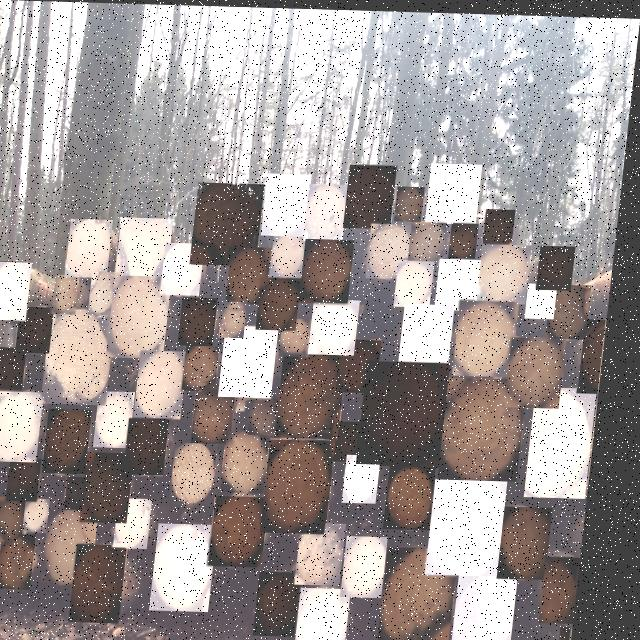wood-log: (371, 360, 454, 463), (452, 376, 534, 477), (537, 384, 601, 494), (442, 478, 516, 573), (396, 546, 468, 640), (53, 309, 119, 404), (277, 438, 342, 531), (199, 182, 265, 264), (288, 353, 352, 436), (168, 523, 226, 610), (118, 275, 175, 357), (463, 298, 522, 373), (468, 573, 528, 640), (86, 544, 137, 621), (516, 335, 572, 405), (224, 495, 278, 564), (231, 325, 283, 396), (513, 503, 563, 576), (58, 510, 107, 583), (96, 452, 143, 522), (2, 392, 49, 462), (145, 351, 194, 417), (125, 217, 178, 278), (408, 302, 460, 364), (308, 237, 357, 300), (350, 163, 399, 226), (433, 161, 483, 221), (485, 242, 535, 300), (398, 464, 444, 527), (55, 409, 100, 472), (310, 521, 355, 583), (310, 587, 362, 640), (269, 173, 314, 234), (271, 570, 314, 633), (234, 430, 278, 490), (182, 442, 225, 503), (356, 534, 398, 595), (73, 219, 117, 277), (318, 298, 364, 353), (553, 553, 590, 619), (203, 382, 243, 442), (310, 182, 351, 239), (235, 245, 274, 303), (374, 222, 416, 275), (136, 418, 176, 473), (0, 262, 36, 320), (347, 338, 387, 390), (265, 276, 305, 328), (555, 282, 594, 335), (443, 257, 484, 307), (169, 242, 208, 293), (106, 391, 141, 447), (12, 534, 46, 589), (589, 316, 613, 389), (401, 258, 439, 304), (187, 297, 223, 344), (129, 498, 163, 547), (0, 347, 33, 396), (355, 453, 389, 500), (414, 220, 450, 263), (26, 307, 59, 353), (544, 243, 579, 286), (277, 231, 310, 275), (4, 497, 36, 542), (193, 345, 225, 389), (18, 459, 50, 501), (96, 272, 128, 313), (339, 419, 371, 459), (489, 206, 519, 246), (288, 317, 319, 355), (259, 394, 287, 433), (533, 281, 563, 315), (400, 184, 428, 219), (455, 221, 482, 255), (61, 275, 85, 313), (227, 301, 252, 335), (0, 538, 16, 588), (36, 499, 61, 531), (77, 477, 96, 508), (574, 623, 583, 640)
